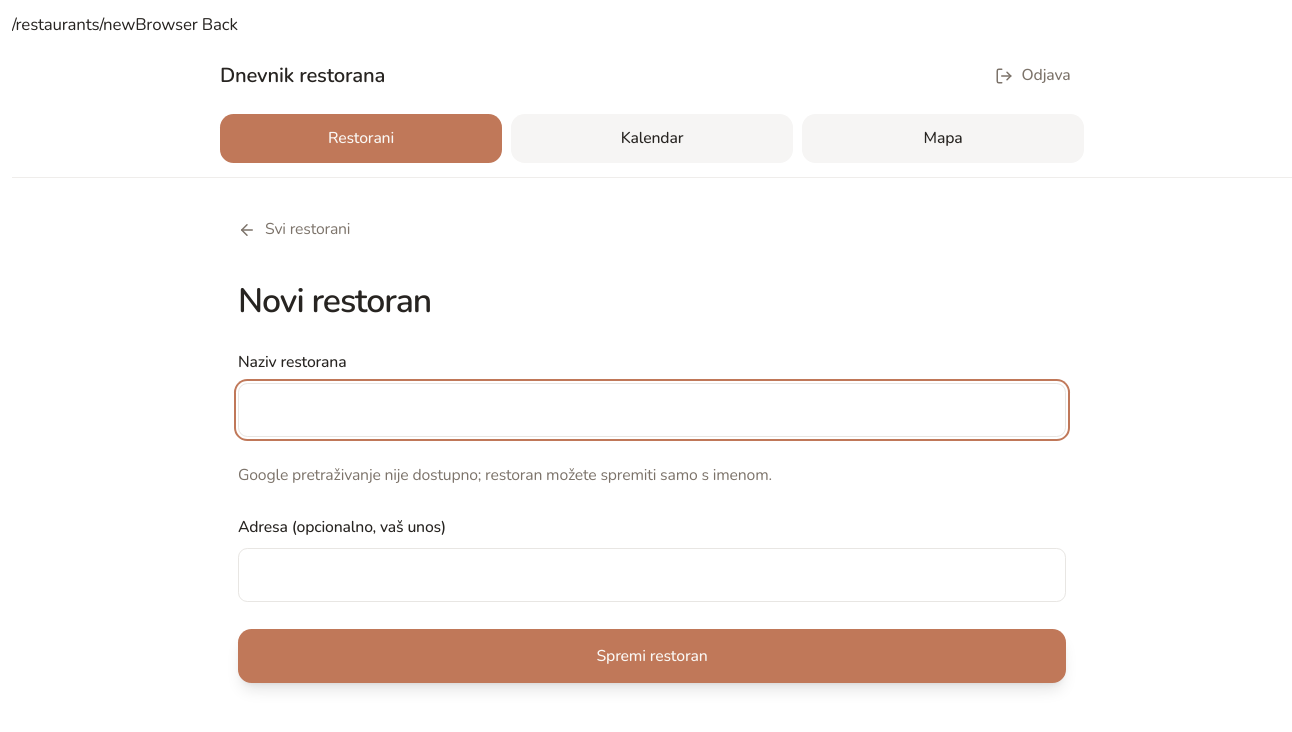
Restaurant V1 routes › creates a name-only restaurant and opens its ID route
The image size is (1292, 732).
In the field labelled "Naziv restorana": point(652, 410) [238,383,1066,437], type "  Bistro  "
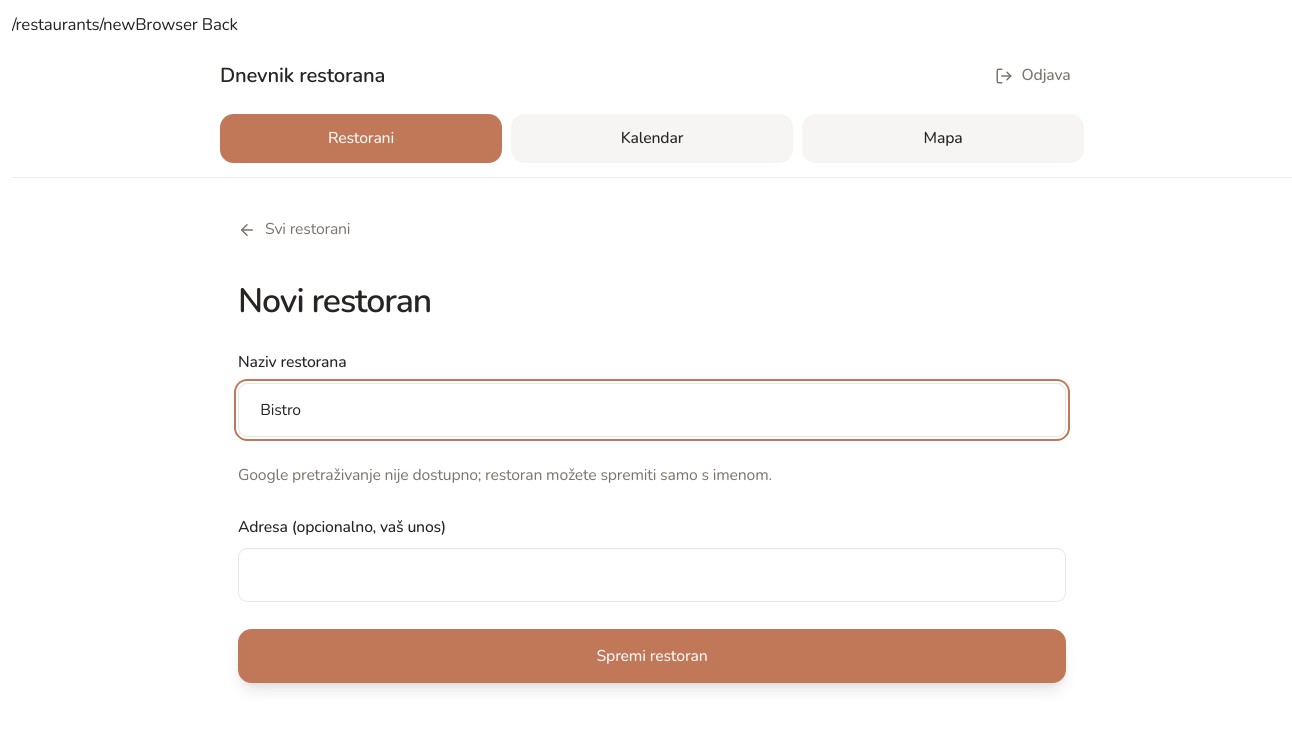
Click the button "Spremi restoran": point(652, 656) [238,629,1066,683]
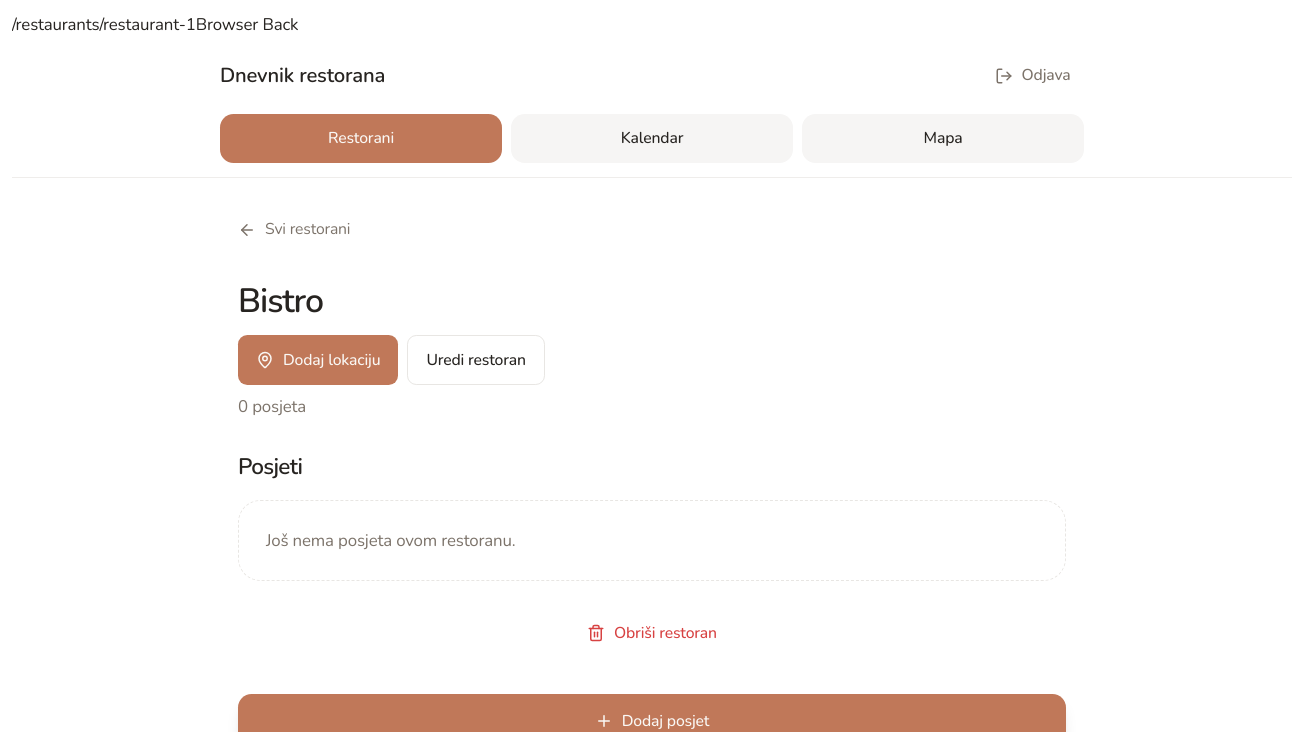
Check: the text with test id "route" reads "/restaurants/restaurant-1", box [12,13,196,36]
Check: the heading "Bistro" is shown, box [238,278,323,324]
